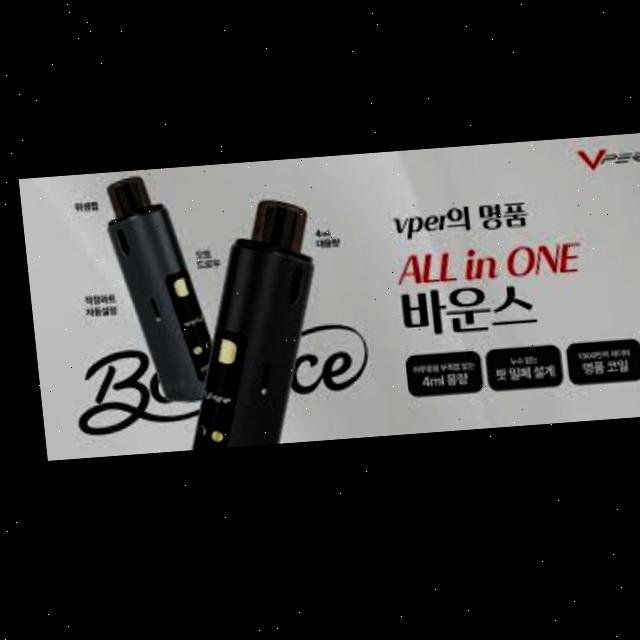vape: (160, 200, 323, 453), (98, 175, 219, 408)
